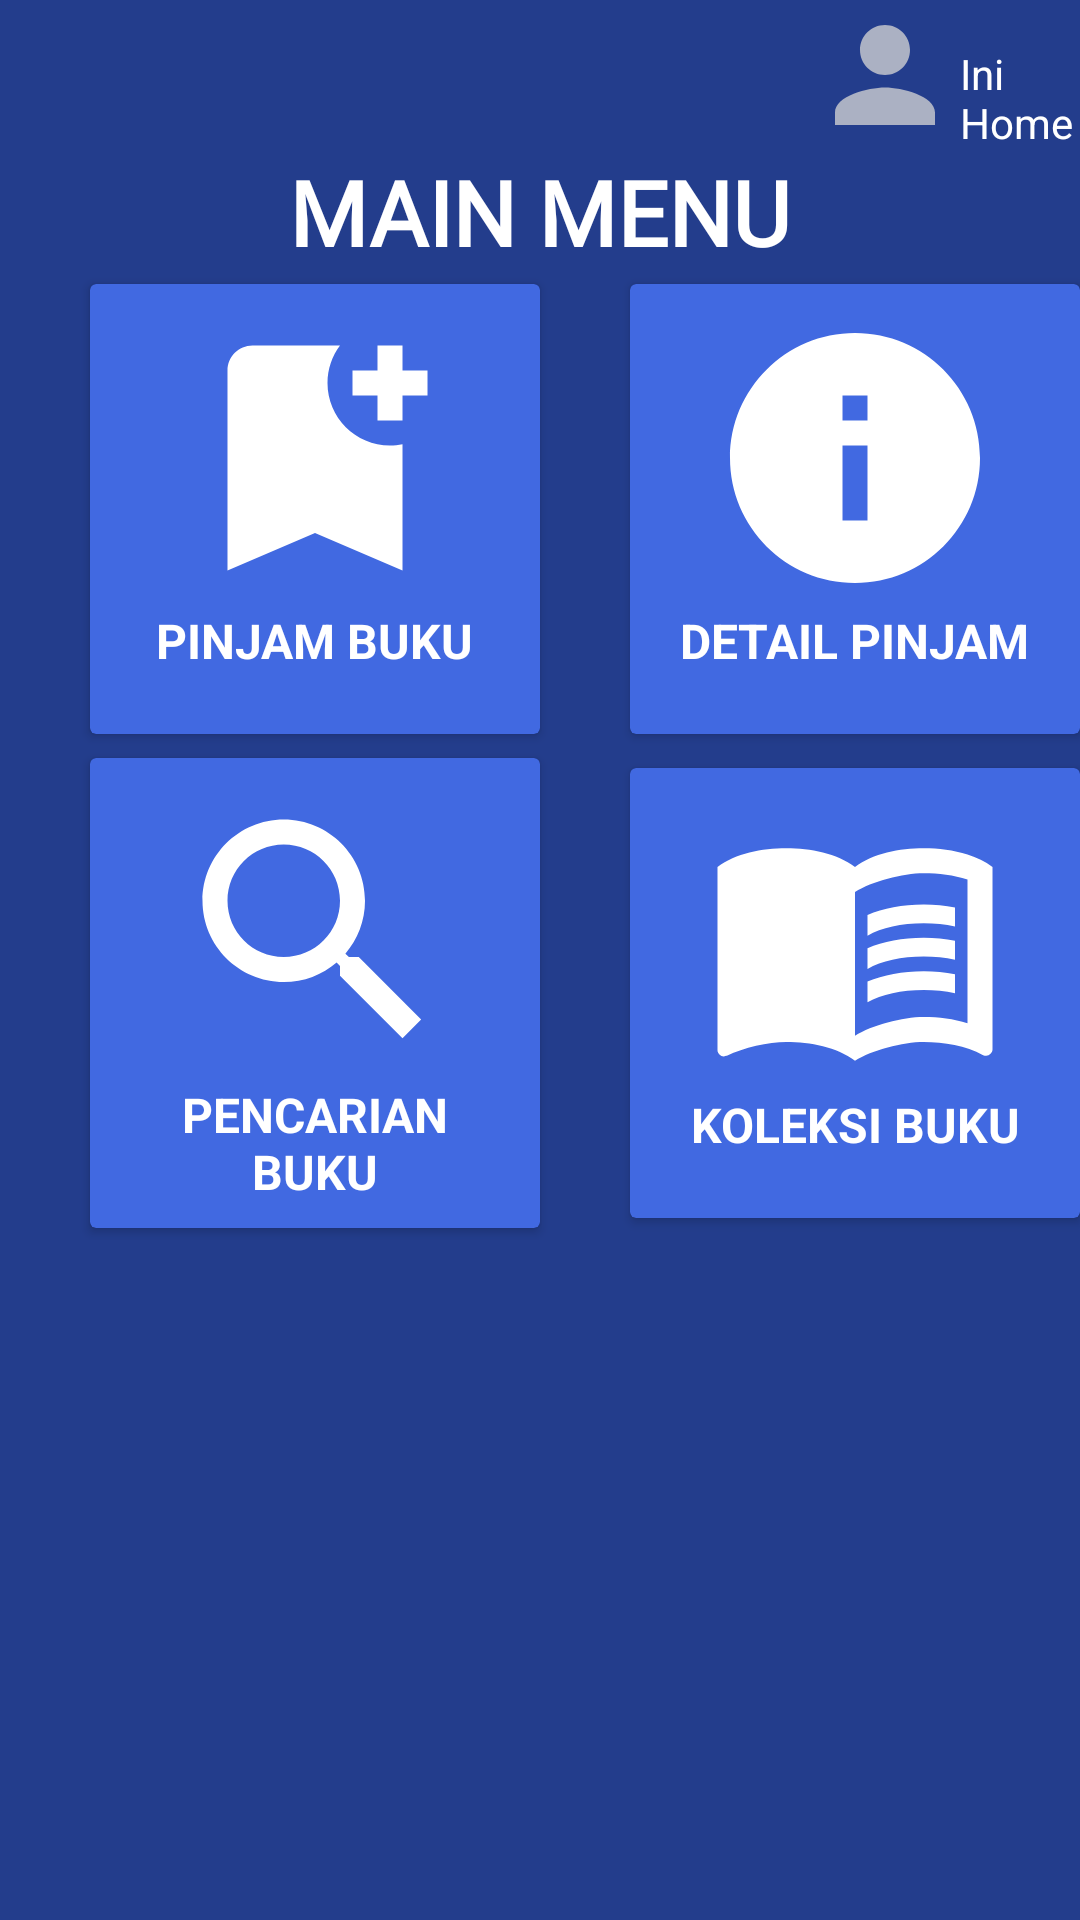

Screen size 1080px x 1920px. Icon name, then its box in pixels as (x1, y1, x2, y2):
info: (730, 333, 980, 583)
person: (835, 25, 935, 125)
